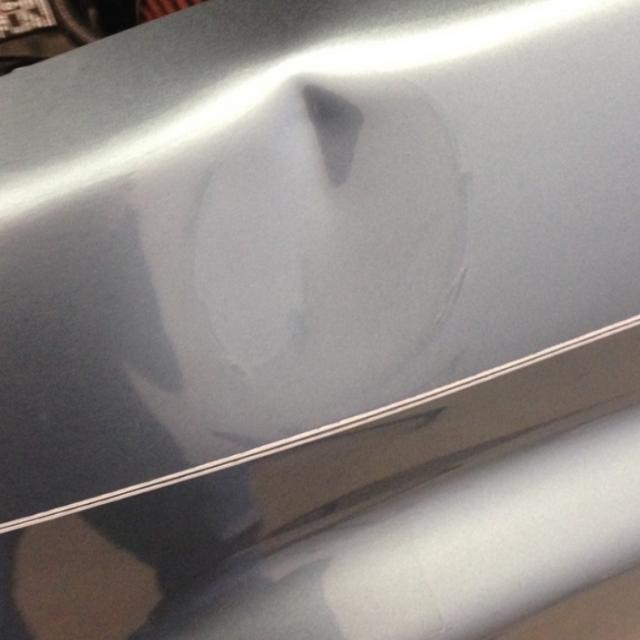dents: (193, 81, 463, 376), (248, 73, 392, 199)
